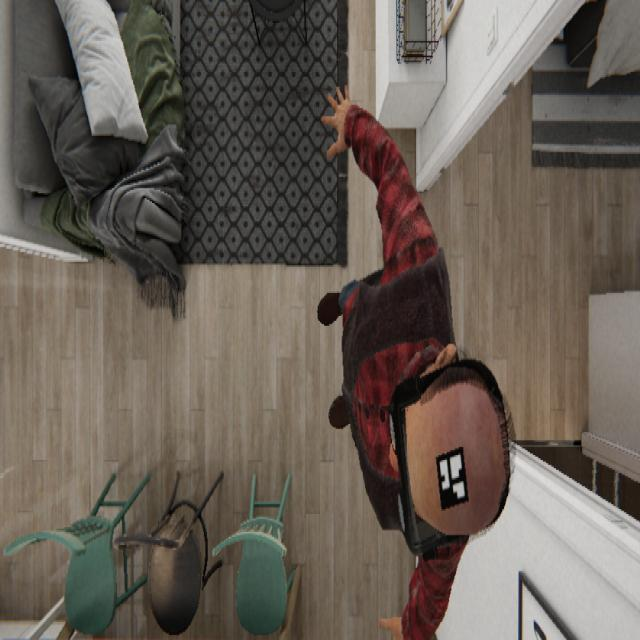AruCO: (434, 442, 469, 511)
Human: (315, 82, 514, 637)
